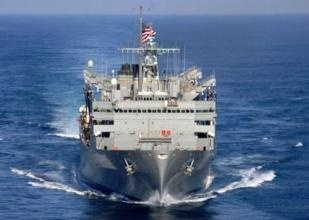warship: (76, 19, 221, 205)
